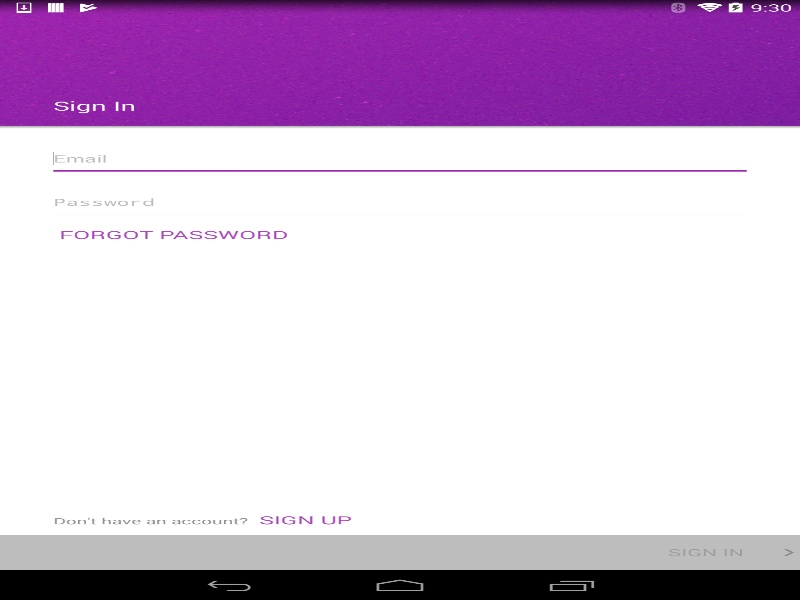Button: (53, 222, 293, 247), (662, 537, 800, 567), (254, 505, 357, 535)
Input: (53, 182, 746, 227), (53, 139, 746, 175)
